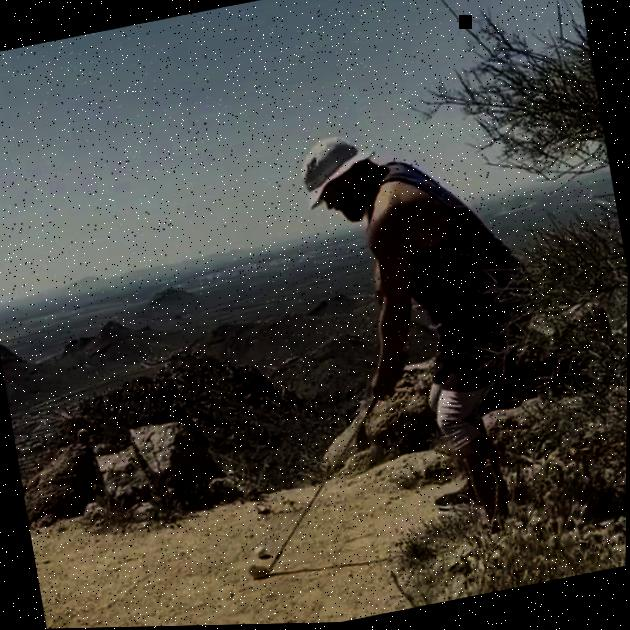ClubHead: (243, 561, 276, 585)
GolfBall: (253, 548, 269, 560)
